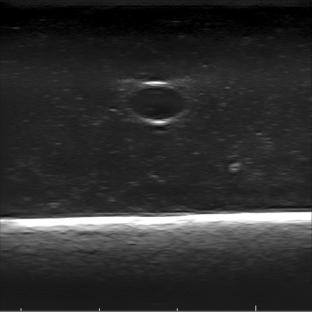vessel: (127, 80, 190, 125)
